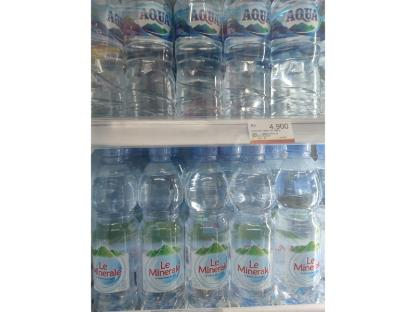Plastic Bottle: (85, 134, 144, 310), (174, 134, 230, 308), (269, 131, 323, 310), (134, 128, 184, 312), (224, 130, 272, 312), (110, 0, 178, 124), (255, 0, 323, 116), (160, 0, 221, 118), (209, 0, 270, 114), (79, 0, 125, 122)
